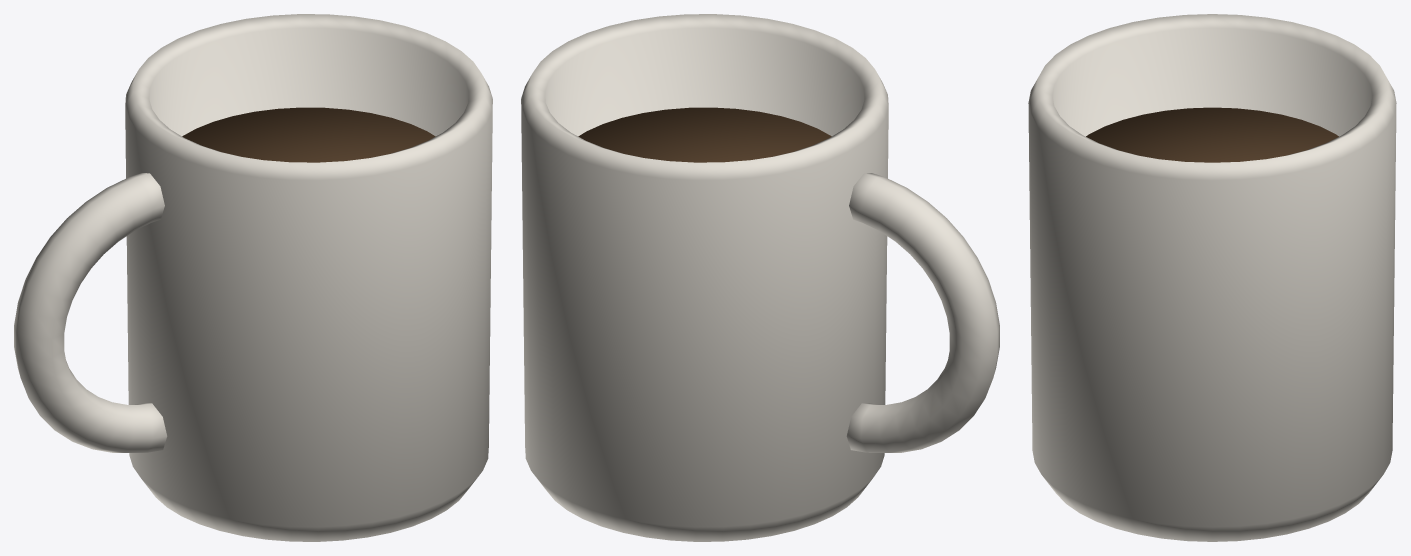
File: Mug.fbx
The picture shows the model from 3 angles, left to right: view 1: azimuth 30°, elevation 25°; view 2: azimuth 150°, elevation 25°; view 3: azimuth 270°, elevation 25°; orthographic projection.
Visible parts, largest first — view 1: Mug; view 2: Mug; view 3: Mug.
Part boxes in pixels (bbox=[...]): Mug: bbox=[14, 14, 492, 541]; Mug: bbox=[521, 14, 999, 541]; Mug: bbox=[1028, 14, 1396, 541].
Size of the model in its own units: 0.1304 by 0.106 by 0.092.
